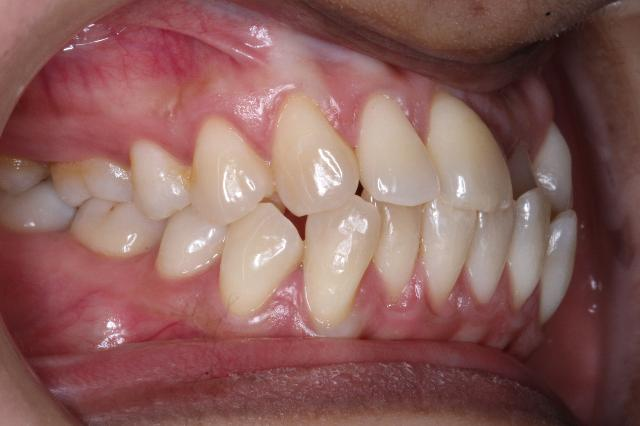canine class II 1/4: (220, 90, 382, 330)
molar class I: (45, 151, 163, 260)
